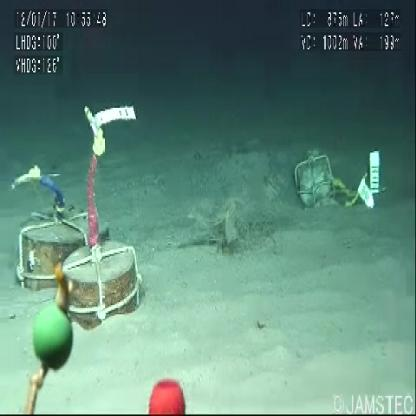Rác: (180, 157, 285, 271)
